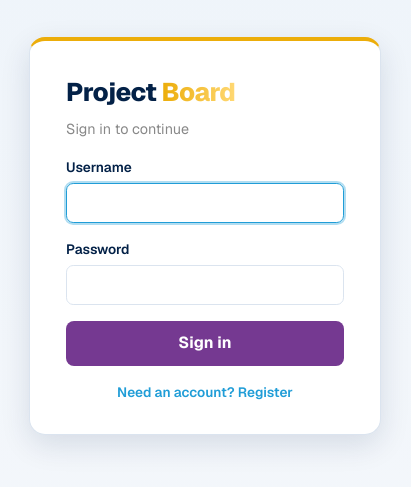
Scenario: LoginForm › shows the backend's error message for a duplicate username
The width and height of the screenshot is (411, 487).
Click the button "Need an account? Register" at (205, 392), box left=66, top=382, right=344, bottom=402
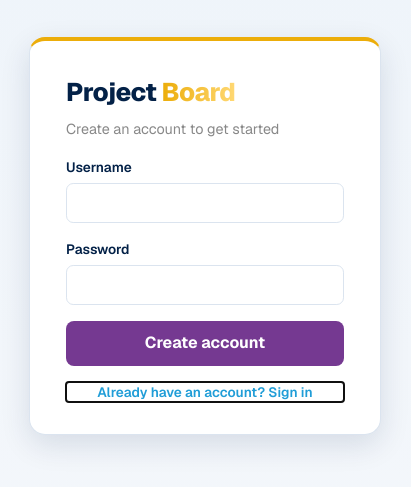
Type "user" into the field labelled "Username" at (205, 203), box left=66, top=183, right=344, bottom=223
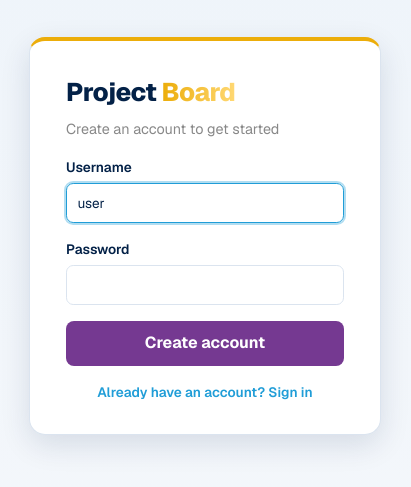
Type "password123" into the password field labelled "Password" at (205, 285), box left=66, top=265, right=344, bottom=305
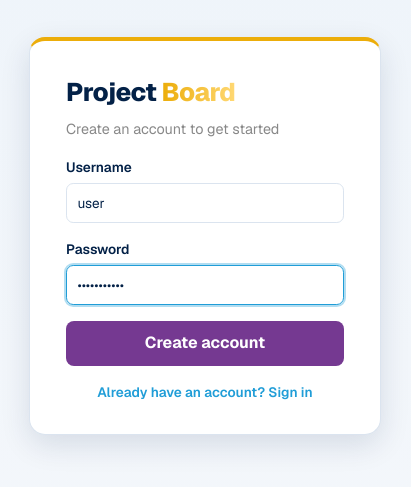
Click the button "Create account" at (205, 343), box left=66, top=321, right=344, bottom=366
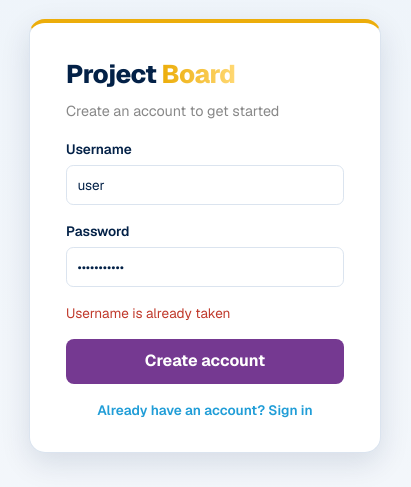
Result: the message reads "Username is already taken" at left=66, top=304, right=230, bottom=322
